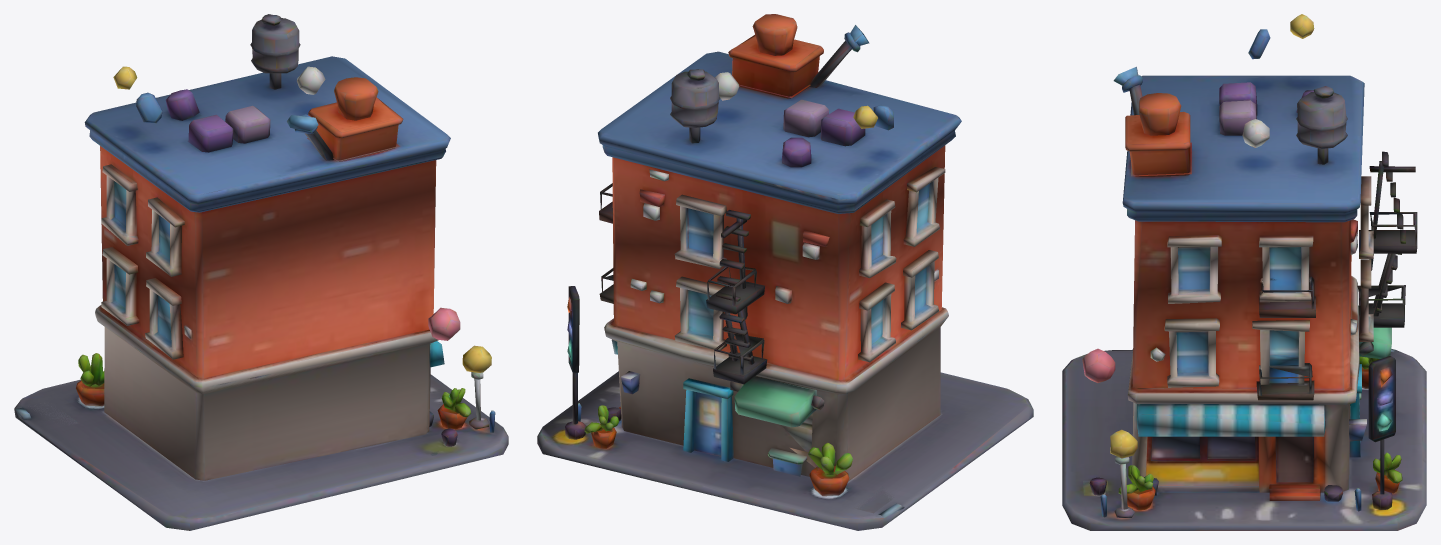
Rendered from bld-brick.glb.
The picture shows the model from 3 angles, left to right: view 1: azimuth 30°, elevation 25°; view 2: azimuth 150°, elevation 25°; view 3: azimuth 270°, elevation 25°; orthographic projection. The views are drawn at different scales.
Visible parts, largest first — view 1: tripo_node_8322ba16-2117-4452-acc5-ba74a98a7109; view 2: tripo_node_8322ba16-2117-4452-acc5-ba74a98a7109; view 3: tripo_node_8322ba16-2117-4452-acc5-ba74a98a7109.
Part boxes in pixels (x1=…): tripo_node_8322ba16-2117-4452-acc5-ba74a98a7109: x1=14, y1=14, x2=508, y2=530; tripo_node_8322ba16-2117-4452-acc5-ba74a98a7109: x1=537, y1=14, x2=1033, y2=530; tripo_node_8322ba16-2117-4452-acc5-ba74a98a7109: x1=1062, y1=14, x2=1426, y2=530.
Size of the model in its own units: 0.9902 by 0.9922 by 0.8614.
Materials: 1 (1 with a texture image).
